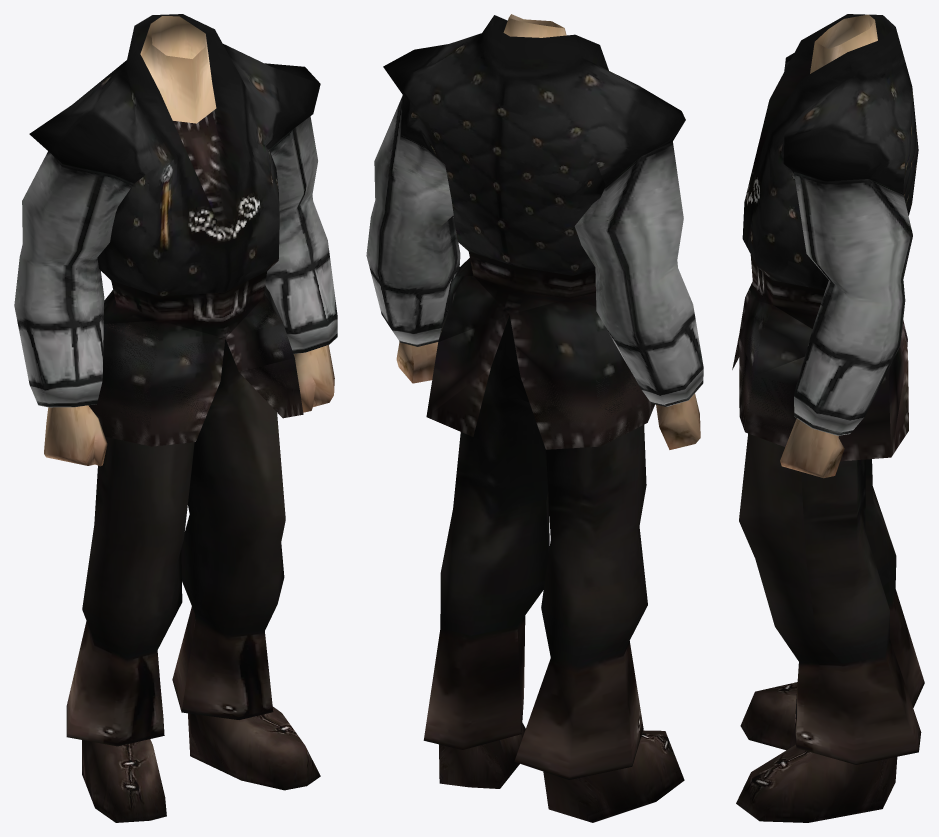
File: ARMOR_KM_VLK_02.glb
The picture shows the model from 3 angles, left to right: view 1: azimuth 30°, elevation 25°; view 2: azimuth 150°, elevation 25°; view 3: azimuth 270°, elevation 25°; orthographic projection. The views are drawn at different scales.
Visible parts, largest first — view 1: ARMOR_KM_VLK_02; view 2: ARMOR_KM_VLK_02; view 3: ARMOR_KM_VLK_02.
Boxes of the visible parts, x1,y1,x2,y2 form: ARMOR_KM_VLK_02: [14, 14, 337, 822]; ARMOR_KM_VLK_02: [366, 14, 703, 822]; ARMOR_KM_VLK_02: [732, 14, 924, 822].
Bounding box in the file's own units: 0.6986 × 1.69 × 0.3904.
Materials: 2 (2 with a texture image).
